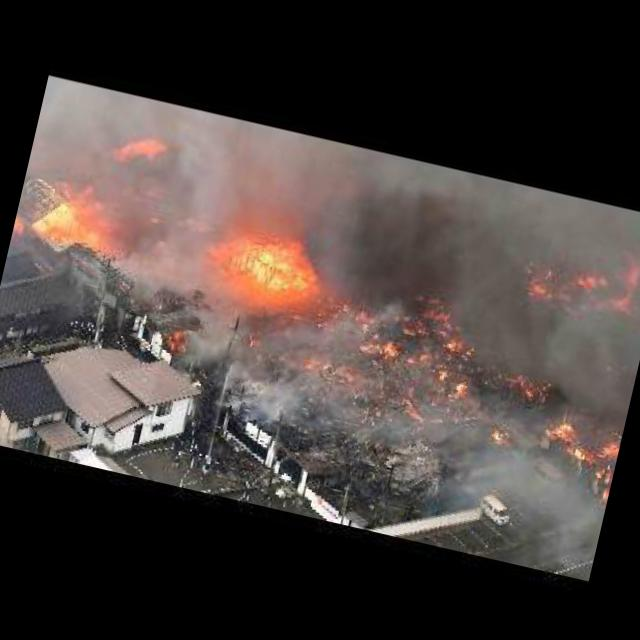fire: (299, 272, 497, 411), (500, 233, 640, 329), (201, 214, 317, 302), (531, 404, 625, 500), (106, 124, 168, 171), (492, 368, 550, 410), (164, 314, 200, 361), (172, 207, 216, 240), (481, 416, 518, 451), (136, 208, 166, 232), (145, 230, 175, 253)
smoke: (290, 375, 539, 480), (410, 455, 608, 571), (180, 304, 304, 436), (520, 303, 640, 424), (300, 280, 406, 394)
